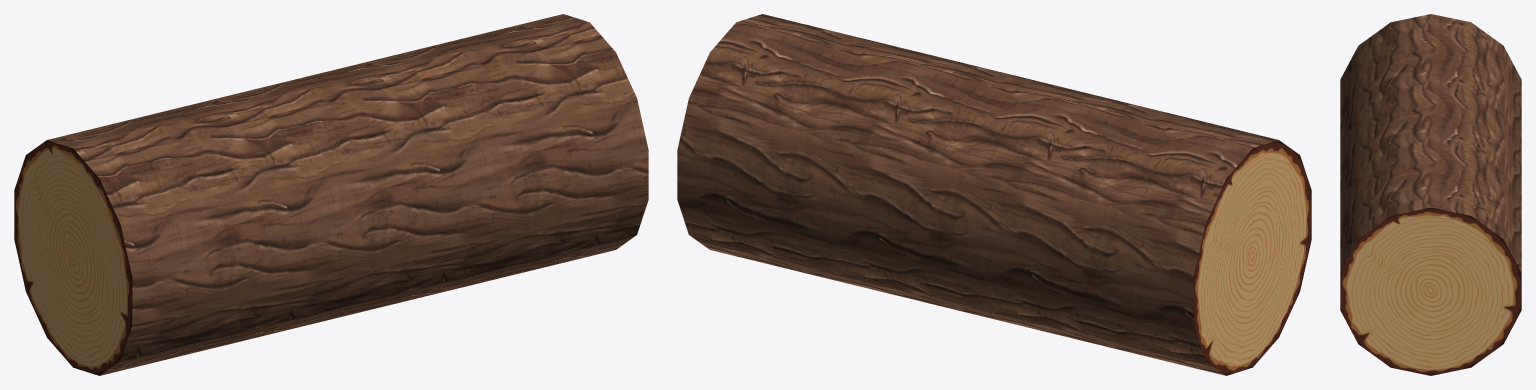
File: log.fbx
3 views of the same model, side by side, from view 1: azimuth 30°, elevation 25°; view 2: azimuth 150°, elevation 25°; view 3: azimuth 270°, elevation 25° (orthographic). The views are drawn at different scales.
Parts seen in each view (by area): view 1: polySurface5; view 2: polySurface5; view 3: polySurface5.
Part boxes in pixels (x1,y1,x2,y2): polySurface5: (14,14,648,375); polySurface5: (677,14,1311,375); polySurface5: (1340,14,1521,375).
Size of the model in its own units: 1.3 by 0.5292 by 0.516.
Materials: 2 (2 with a texture image).
